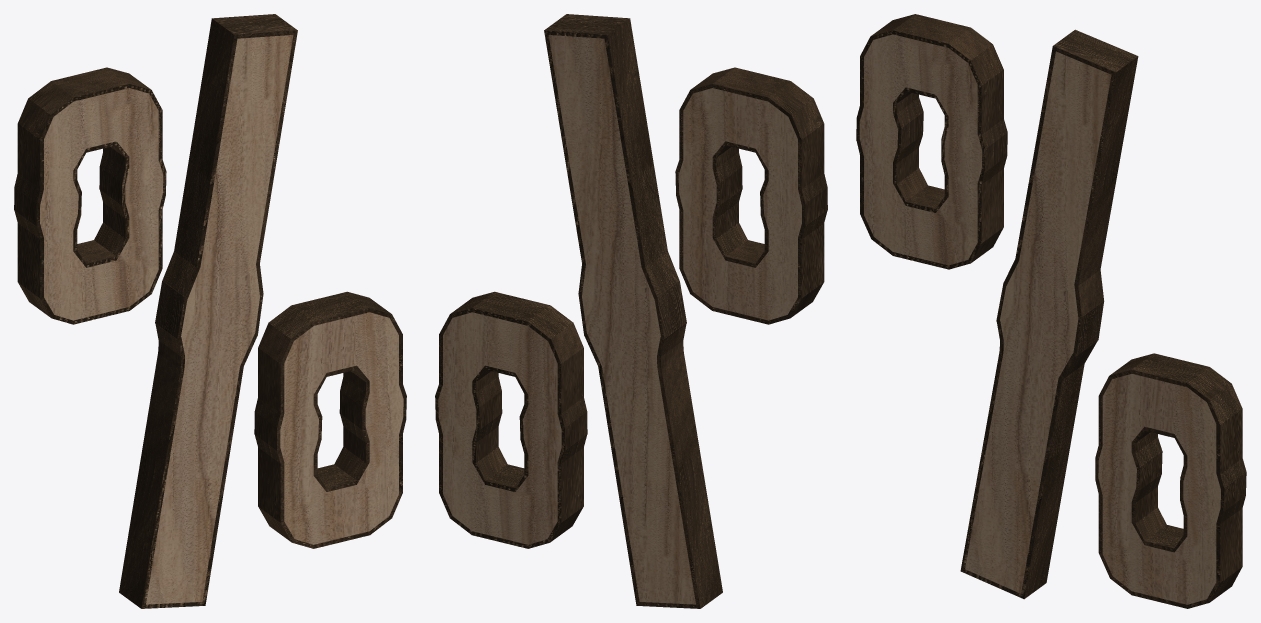
File: Interest.FBX
3 views of the same model, side by side, from view 1: azimuth 30°, elevation 25°; view 2: azimuth 150°, elevation 25°; view 3: azimuth 330°, elevation 25° (orthographic).
Visible parts, largest first — view 1: Interest, Interest_outline; view 2: Interest, Interest_outline; view 3: Interest, Interest_outline.
Boxes of the visible parts, left/top/right/bottom form: Interest: left=40, top=35, right=403, bottom=604; Interest_outline: left=14, top=14, right=406, bottom=608; Interest: left=438, top=35, right=801, bottom=604; Interest_outline: left=435, top=14, right=827, bottom=608; Interest: left=859, top=34, right=1220, bottom=604; Interest_outline: left=856, top=14, right=1246, bottom=608.
Size of the model in its own units: 95.03 by 138 by 10.
Materials: 2 (2 with a texture image).
